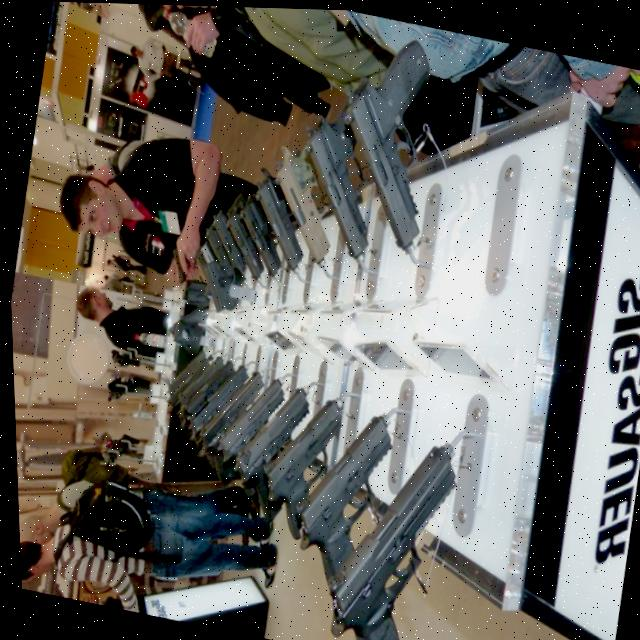firearm: (96, 429, 144, 474), (99, 368, 149, 410), (103, 342, 139, 370)
pistol: (304, 416, 464, 640), (314, 22, 454, 257), (275, 394, 398, 596), (243, 380, 347, 545), (284, 105, 389, 263), (218, 370, 313, 527), (254, 134, 346, 266), (182, 358, 266, 490), (239, 159, 316, 274), (207, 362, 287, 472), (223, 183, 291, 278), (183, 353, 250, 440), (213, 188, 274, 282), (198, 205, 256, 284), (164, 346, 224, 420), (178, 351, 235, 428), (159, 344, 212, 413), (159, 342, 206, 402), (163, 243, 190, 284)
